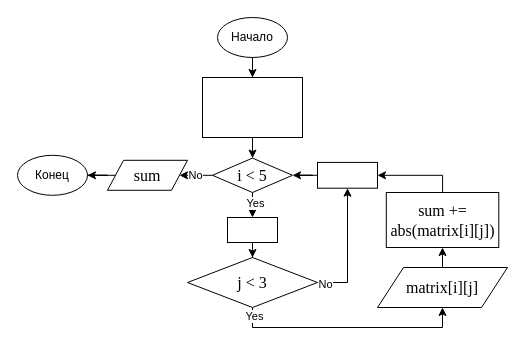
Image size: 525x353. Some labels were removed from this diagram. Here are the shapes that lost their labels. From the top down, the centre of each, then its label:
the point at 252,107: int sum = 0, matrix[5][3], i = 0;
the point at 347,174: i++
the point at 252,229: j = 0
